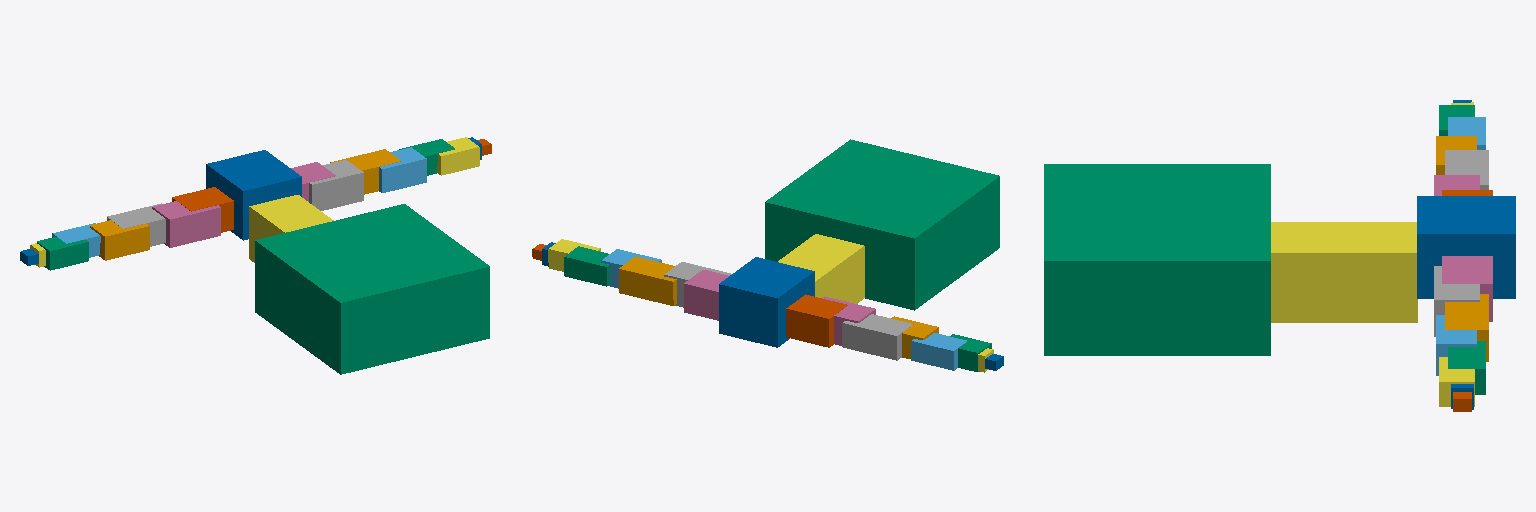
URDF robot description (Krang):
<?xml version="1.0" ?>
<!-- @file Krang.urdf -->
<!-- @author [author] -->
<!-- @date May 19, 2013 -->
<!-- @brief This file contains the .urdf definition for Krang with no dae files but only -->
<!-- bounding boxes for the dae files except the wheels (for fast loading in 05-fr). -->
<!-- TODO: Set the center of mass locations -->
<!-- TODO: Set the correct masses. Note that the dae models have the brackets divided in two and -->
<!-- connected to the middle motor for which we do not have measurements. -->
<!-- NOTE: The bounding box values are taken by finding the min and max values of the dae files. -->

<robot name="Krang">

	<!-- Links -->

	<link name = "LWheel"> 
    <inertial>
      <mass value="4.66"/>
      <inertia ixx="0.102019" ixy="2.45462e-05" ixz="0.00713022" iyy="0.0832724" iyz="-0.00131733" izz="0.086493"/>
      <origin xyz="0 0 0"/>
    </inertial>
		<visual> <geometry> <mesh filename="Base/oldwheel.dae" /> </geometry> </visual> 
		<collision> <geometry> <mesh filename="Base/oldwheel.dae" /> </geometry> </collision> 
	</link>

	<link name = "RWheel"> 
    <inertial>
      <mass value="4.66"/>
      <inertia ixx="0.102019" ixy="2.45462e-05" ixz="0.00713022" iyy="0.0832724" iyz="-0.00131733" izz="0.086493"/>
      <origin xyz="0 0 0"/>
    </inertial>
		<visual> <geometry> <mesh filename="Base/oldwheel.dae" /> </geometry> </visual> 
		<collision> <geometry> <mesh filename="Base/oldwheel.dae" /> </geometry> </collision> 
	</link>

	<link name = "Base"> 
    <inertial>
      <mass value="86.5"/>
      <inertia ixx="0.102019" ixy="2.45462e-05" ixz="0.00713022" iyy="0.0832724" iyz="-0.00131733" izz="0.086493"/>
      <origin xyz="0 0 0"/>
    </inertial>
		<visual> 
			<origin xyz="0.00225 0.2097395 0.006300"/>
      <geometry>
        <box size="0.7165 0.71048 0.32860"/>
      </geometry>
		</visual> 
		<collision> 
			<origin xyz="0.00225 0.2097395 0.006300"/>
      <geometry>
        <box size="0.7165 0.71048 0.32860"/>
      </geometry>
		</collision> 
	</link>

	<link name = "Spine"> 
    <inertial>
      <mass value="6.547"/>
      <inertia ixx="0.102019" ixy="2.45462e-05" ixz="0.00713022" iyy="0.0832724" iyz="-0.00131733" izz="0.086493"/>
      <origin xyz="0 0 0"/>
    </inertial>
		<visual> 
			<origin xyz="-0.026 0.230150 0.053887"/>
      <geometry>
        <box size="0.2340 0.59430 0.24097"/>
      </geometry>
		</visual> 
		<collision> 
			<origin xyz="-0.026 0.230150 0.053887"/>
      <geometry>
        <box size="0.2340 0.59430 0.24097"/>
      </geometry>
		</collision> 
	</link>

	<link name = "Bracket"> 
    <inertial>
      <mass value="3.11"/>
      <inertia ixx="0.102019" ixy="2.45462e-05" ixz="0.00713022" iyy="0.0832724" iyz="-0.00131733" izz="0.086493"/>
      <origin xyz="0 0 0"/>
    </inertial>
		<visual> <origin xyz="0.0012875 0.0971525 -0.0280530"/> <geometry> <box size="0.2815 0.30791 0.22611"/> </geometry> </visual> 
		<collision> <origin xyz="0.0012875 0.0971525 -0.0280530"/> <geometry> <box size="0.2815 0.30791 0.22611"/> </geometry> </collision> 
	</link>

	<link name = "L1"> 
    <inertial>
      <mass value="3.28"/>
      <inertia ixx="0.102019" ixy="2.45462e-05" ixz="0.00713022" iyy="0.0832724" iyz="-0.00131733" izz="0.086493"/>
      <origin xyz="0 0 0"/>
    </inertial>
		<visual> <origin xyz="0.015 -0.080866 0.0"/> <geometry> <box size="0.16 0.29367 0.13188"/> </geometry> </visual> 
		<collision> <origin xyz="0.015 -0.080866 0.0"/> <geometry> <box size="0.16 0.29367 0.13188"/> </geometry> </collision> 
	</link>

	<link name = "L2"> 
    <inertial>
      <mass value="3.76"/>
      <inertia ixx="0.102019" ixy="2.45462e-05" ixz="0.00713022" iyy="0.0832724" iyz="-0.00131733" izz="0.086493"/>
      <origin xyz="0 0 0"/>
    </inertial>
		<visual> <origin xyz="0.017042 -0.058309 0.0"/> <geometry> <box size="0.14591 0.24658 0.13"/> </geometry> </visual> 
		<collision> <origin xyz="0.017042 -0.058309 0.0"/> <geometry> <box size="0.14591 0.24658 0.13"/> </geometry> </collision> 
	</link>

	<link name = "L3"> 
    <inertial>
      <mass value="2.435"/>
      <inertia ixx="0.102019" ixy="2.45462e-05" ixz="0.00713022" iyy="0.0832724" iyz="-0.00131733" izz="0.086493"/>
      <origin xyz="0 0 0"/>
    </inertial>
		<visual> <origin xyz="0.014000 -0.075113 0.0"/> <geometry> <box size="0.13800 0.26217 0.11189"/> </geometry> </visual> 
		<collision> <origin xyz="0.014000 -0.075113 0.0"/> <geometry> <box size="0.13800 0.26217 0.11189"/> </geometry> </collision> 
	</link>

	<link name = "L4"> 
    <inertial>
      <mass value="2.356"/>
      <inertia ixx="0.102019" ixy="2.45462e-05" ixz="0.00713022" iyy="0.0832724" iyz="-0.00131733" izz="0.086493"/>
      <origin xyz="0 0 0"/>
    </inertial>
		<visual> <origin xyz="0.018200 -0.052050 0.0"/> <geometry> <box size="0.12960 0.2141 0.11"/> </geometry> </visual> 
		<collision> <origin xyz="0.018200 -0.052050 0.0"/> <geometry> <box size="0.12960 0.2141 0.11"/> </geometry> </collision> 
	</link>

	<link name = "L5"> 
    <inertial>
      <mass value="1.517"/>
      <inertia ixx="0.102019" ixy="2.45462e-05" ixz="0.00713022" iyy="0.0832724" iyz="-0.00131733" izz="0.086493"/>
      <origin xyz="0 0 0"/>
    </inertial>
		<visual> <origin xyz="0.0145115 -0.0571105 0.0000425"/> <geometry> <box size="0.117977 0.204179 0.089915"/> </geometry> </visual> 
		<collision> <origin xyz="0.0145115 -0.0571105 0.0000425"/> <geometry> <box size="0.117977 0.204179 0.089915"/> </geometry> </collision> 
	</link>

	<link name = "L6"> 
    <inertial>
      <mass value="1.428"/>
      <inertia ixx="0.102019" ixy="2.45462e-05" ixz="0.00713022" iyy="0.0832724" iyz="-0.00131733" izz="0.086493"/>
      <origin xyz="0 0 0"/>
    </inertial>
		<visual> <origin xyz="0.0175015 -0.0481615 0.0"/> <geometry> <box size="0.111977 0.185277 0.089"/> </geometry> </visual> 
		<collision> <origin xyz="0.0175015 -0.0481615 0.0"/> <geometry> <box size="0.111977 0.185277 0.089"/> </geometry> </collision> 
	</link>

	<link name = "LFT"> 
    <inertial>
      <mass value="1.206"/>
      <inertia ixx="0.102019" ixy="2.45462e-05" ixz="0.00713022" iyy="0.0832724" iyz="-0.00131733" izz="0.086493"/>
      <origin xyz="0 0 0"/>
    </inertial>
		<visual> <origin xyz="0.0 0.0111 0.0"/> <geometry> <box size="0.075 0.0462 0.075"/> </geometry> </visual> 
		<collision> <origin xyz="0.0 0.0111 0.0"/> <geometry> <box size="0.075 0.0462 0.075"/> </geometry> </collision> 
	</link>

	<link name = "lGripper">
		<visual> <origin xyz="0.0 0.0 0.0"/> <geometry> <box size="0.0616 0.0555 0.044"/> </geometry> </visual> 
		<collision> <origin xyz="0.0 0.0 0.0"/> <geometry> <box size="0.0616 0.0555 0.044"/> </geometry> </collision> 
	</link> 	

	<link name = "lgPlate1">
		<visual> <geometry> <mesh filename="Schunk/gripperPlate.dae" /> </geometry> </visual>
		<collision> <geometry> <mesh filename="Schunk/gripperPlate.dae" /> </geometry> </collision>
	</link> 	

	<link name = "R1"> 
    <inertial>
      <mass value="3.28"/>
      <inertia ixx="0.102019" ixy="2.45462e-05" ixz="0.00713022" iyy="0.0832724" iyz="-0.00131733" izz="0.086493"/>
      <origin xyz="0 0 0"/>
    </inertial>
		<visual> <origin xyz="0.015 -0.080866 0.0"/> <geometry> <box size="0.16 0.29367 0.13188"/> </geometry> </visual> 
		<collision> <origin xyz="0.015 -0.080866 0.0"/> <geometry> <box size="0.16 0.29367 0.13188"/> </geometry> </collision> 
	</link>

	<link name = "R2"> 
    <inertial>
      <mass value="3.76"/>
      <inertia ixx="0.102019" ixy="2.45462e-05" ixz="0.00713022" iyy="0.0832724" iyz="-0.00131733" izz="0.086493"/>
      <origin xyz="0 0 0"/>
    </inertial>
		<visual> <origin xyz="0.017042 -0.058309 0.0"/> <geometry> <box size="0.14591 0.24658 0.13"/> </geometry> </visual> 
		<collision> <origin xyz="0.017042 -0.058309 0.0"/> <geometry> <box size="0.14591 0.24658 0.13"/> </geometry> </collision> 
	</link>

	<link name = "R3"> 
    <inertial>
      <mass value="2.435"/>
      <inertia ixx="0.102019" ixy="2.45462e-05" ixz="0.00713022" iyy="0.0832724" iyz="-0.00131733" izz="0.086493"/>
      <origin xyz="0 0 0"/>
    </inertial>
		<visual> <origin xyz="0.014000 -0.075113 0.0"/> <geometry> <box size="0.13800 0.26217 0.11189"/> </geometry> </visual> 
		<collision> <origin xyz="0.014000 -0.075113 0.0"/> <geometry> <box size="0.13800 0.26217 0.11189"/> </geometry> </collision> 
	</link>

	<link name = "R4"> 
    <inertial>
      <mass value="2.356"/>
      <inertia ixx="0.102019" ixy="2.45462e-05" ixz="0.00713022" iyy="0.0832724" iyz="-0.00131733" izz="0.086493"/>
      <origin xyz="0 0 0"/>
    </inertial>
		<visual> <origin xyz="0.018200 -0.052050 0.0"/> <geometry> <box size="0.12960 0.2141 0.11"/> </geometry> </visual> 
		<collision> <origin xyz="0.018200 -0.052050 0.0"/> <geometry> <box size="0.12960 0.2141 0.11"/> </geometry> </collision> 
	</link>

	<link name = "R5"> 
    <inertial>
      <mass value="1.517"/>
      <inertia ixx="0.102019" ixy="2.45462e-05" ixz="0.00713022" iyy="0.0832724" iyz="-0.00131733" izz="0.086493"/>
      <origin xyz="0 0 0"/>
    </inertial>
		<visual> <origin xyz="0.0145115 -0.0571105 0.0000425"/> <geometry> <box size="0.117977 0.204179 0.089915"/> </geometry> </visual> 
		<collision> <origin xyz="0.0145115 -0.0571105 0.0000425"/> <geometry> <box size="0.117977 0.204179 0.089915"/> </geometry> </collision> 
	</link>

	<link name = "R6"> 
    <inertial>
      <mass value="1.428"/>
      <inertia ixx="0.102019" ixy="2.45462e-05" ixz="0.00713022" iyy="0.0832724" iyz="-0.00131733" izz="0.086493"/>
      <origin xyz="0 0 0"/>
    </inertial>
		<visual> <origin xyz="0.0175015 -0.0481615 0.0"/> <geometry> <box size="0.111977 0.185277 0.089"/> </geometry> </visual> 
		<collision> <origin xyz="0.0175015 -0.0481615 0.0"/> <geometry> <box size="0.111977 0.185277 0.089"/> </geometry> </collision> 
	</link>

	<link name = "RFT"> 
    <inertial>
      <mass value="1.206"/>
      <inertia ixx="0.102019" ixy="2.45462e-05" ixz="0.00713022" iyy="0.0832724" iyz="-0.00131733" izz="0.086493"/>
      <origin xyz="0 0 0"/>
    </inertial>
		<visual> <origin xyz="0.0 0.0111 0.0"/> <geometry> <box size="0.075 0.0462 0.075"/> </geometry> </visual> 
		<collision> <origin xyz="0.0 0.0111 0.0"/> <geometry> <box size="0.075 0.0462 0.075"/> </geometry> </collision> 
	</link>

	<link name = "rGripper">
		<visual> <origin xyz="0.0 0.0 0.0"/> <geometry> <box size="0.0616 0.0555 0.044"/> </geometry> </visual> 
		<collision> <origin xyz="0.0 0.0 0.0"/> <geometry> <box size="0.0616 0.0555 0.044"/> </geometry> </collision> 
	</link> 	


	<link name = "rgPlate1">
		<visual> <geometry> <mesh filename="Schunk/gripperPlate.dae" /> </geometry> </visual>
		<collision> <geometry> <mesh filename="Schunk/gripperPlate.dae" /> </geometry> </collision>
	</link> 	

	<!-- ======================================================================================================== -->
	<!-- ============================================ Joints ==================================================== -->
	<!-- ======================================================================================================== -->

	<joint name="JLWheel" type="revolute"> <parent link="Base" /> <child link="LWheel" />
		<origin xyz = "-0.354 0.0 0" rpy="0 0 0" />
		<axis xyz="1 0 0" /> <limit effort="1000" lower="-3.1416" upper="3.1416" velocity="0.1" />
	</joint>

	<joint name="JRWheel" type="revolute"> <parent link="Base" /> <child link="RWheel" />
		<origin xyz = "0.361 0.0 0" rpy="0 0 0" />
		<axis xyz="1 0 0" /> <limit effort="1000" lower="-3.1416" upper="3.1416" velocity="0.1" />
	</joint>

	<joint name="JWaist" type="revolute"> <parent link="Base" /> <child link="Spine" />
		<origin xyz = "0.026 0.499 -0.091" rpy="0 0 0" />
		<axis xyz="-1 0 0" /> <limit effort="1000" lower="0" upper="2.3" velocity="0.1" />
	</joint>

	<joint name="JTorso" type="revolute"> <parent link="Spine" /> <child link="Bracket" />
		<origin xyz = "-0.0285 0.584 0.1088" rpy="0 3.1416 0" />
		<axis xyz="0 -1 0" /> <limit effort="1000" lower="-0.8" upper="0.8" velocity="0.1" />
	</joint>

	<joint name="LJ1" type="revolute"> <parent link="Bracket" /> <child link="L1" />
		<origin xyz = "0.2823 0.0845 0" rpy="0 3.1416 -1.5708" />
		<axis xyz="0 -1 0" /> <limit effort="1000" lower="-3.1416" upper="3.1416" velocity="0.1" />
	</joint>

	<joint name="LJ2" type="revolute"> <parent link="L1" /> <child link="L2" />
		<origin xyz="0 0.0 0" rpy="3.14 3.14 0" />
		<axis xyz="-1 0 0" /> <limit effort="1000" lower="-2.094" upper="2.094" velocity="0.1" />
	</joint>

	<joint name="LJ3" type="revolute"> <parent link="L2" /> <child link="L3" />
		<origin xyz="0 -0.328 0" rpy="-3.1416 -3.1416 0" />
		<axis xyz="0 -1 0" /> <limit effort="1000" lower="-3.1416" upper="3.1416" velocity="0.1" />
	</joint>

	<joint name="LJ4" type="revolute"> <parent link="L3" /> <child link="L4" />
		<origin xyz="0 0 0" rpy="3.1416 3.1416 0" />
		<axis xyz="-1 0 0" /> <limit effort="1000" lower="-2.094" upper="2.094" velocity="0.1" />
	</joint>

	<joint name="LJ5" type="revolute"> <parent link="L4" /> <child link="L5" />
		<origin xyz="0 -0.2765 0" rpy="3.1416 3.1416 0" />
		<axis xyz="0 -1 0" /> <limit effort="1000" lower="-3.1416" upper="3.1416" velocity="0.1" />
	</joint>

	<joint name="LJ6" type="revolute"> <parent link="L5" /> <child link="L6" />
		<origin xyz="0 0 0" rpy="3.1416 3.1416 0" />
		<axis xyz="-1 0 0" /> <limit effort="1000" lower="-2.094" upper="2.094" velocity="0.1" />
	</joint>

	<!-- For some reason, I had to negate the axis to make sure the motor turns like the others -->
	<joint name="LJFT" type="revolute"> <parent link="L6" /> <child link="LFT" />
		<origin xyz="0 -0.159 0" rpy="0 0 0" />
		<axis xyz="0 1 0" /> <limit effort="1000" lower="-3.1416" upper="3.1416" velocity="0.1" />
	</joint>

	<joint name="LMotorGripper" type="fixed"> <parent link="LFT" /> <child link="lGripper" />
		<origin xyz="0.0 -0.035 0" rpy="3.1416 0 0" />
		<axis xyz="1 0 0" /> <limit effort="1000" lower="-2.094" upper="2.094" velocity="0.1" />
	</joint>

	<joint name="LMotorPlate1" type="revolute"> <parent link="lGripper" /> <child link="lgPlate1" />
		<origin xyz="-0.025 0.068 0.0" rpy="1.57 0.0 0" />
		<axis xyz="0 -1 0" /> <limit effort="1000" lower="0.0" upper="1.57" velocity="0.1" />
	</joint>

	<!-- Right arm -->

	<joint name="RJ1" type="revolute"> <parent link="Bracket" /> <child link="R1" />
		<origin xyz = "-0.2823 0.0845 0" rpy="0 0 1.5708" />
		<axis xyz="0 -1 0" /> <limit effort="1000" lower="-3.1416" upper="3.1416" velocity="0.1" />
	</joint>

	<joint name="RJ2" type="revolute"> <parent link="R1" /> <child link="R2" />
		<origin xyz="0 0.0 0" rpy="3.14 3.14 0" />
		<axis xyz="-1 0 0" /> <limit effort="1000" lower="-2.094" upper="2.094" velocity="0.1" />
	</joint>

	<joint name="RJ3" type="revolute"> <parent link="R2" /> <child link="R3" />
		<origin xyz="0 -0.328 0" rpy="-3.1416 -3.1416 0" />
		<axis xyz="0 -1 0" /> <limit effort="1000" lower="-3.1416" upper="3.1416" velocity="0.1" />
	</joint>

	<joint name="RJ4" type="revolute"> <parent link="R3" /> <child link="R4" />
		<origin xyz="0 0 0" rpy="3.1416 3.1416 0" />
		<axis xyz="-1 0 0" /> <limit effort="1000" lower="-2.094" upper="2.094" velocity="0.1" />
	</joint>

	<joint name="RJ5" type="revolute"> <parent link="R4" /> <child link="R5" />
		<origin xyz="0 -0.2765 0" rpy="3.1416 3.1416 0" />
		<axis xyz="0 -1 0" /> <limit effort="1000" lower="-3.1416" upper="3.1416" velocity="0.1" />
	</joint>

	<joint name="RJ6" type="revolute"> <parent link="R5" /> <child link="R6" />
		<origin xyz="0 0 0" rpy="3.1416 3.1416 0" />
		<axis xyz="-1 0 0" /> <limit effort="1000" lower="-2.094" upper="2.094" velocity="0.1" />
	</joint>

	<joint name="RJFT" type="revolute"> <parent link="R6" /> <child link="RFT" />
		<origin xyz="0 -0.159 0" rpy="0 0 0" />
		<axis xyz="0 1 0" /> <limit effort="1000" lower="-3.1416" upper="3.1416" velocity="0.1" />
	</joint>

	<joint name="RMotorGripper" type="fixed"> <parent link="RFT" /> <child link="rGripper" />
		<origin xyz="0 -0.035 0" rpy="3.1416 0 0" />
		<axis xyz="1 0 0" /> <limit effort="1000" lower="-2.094" upper="2.094" velocity="0.1" />
	</joint>

	<joint name="RMotorPlate1" type="revolute"> <parent link="rGripper" /> <child link="rgPlate1" />
		<origin xyz="-0.025 0.068 0.0" rpy="1.57 0.0 0" />
		<axis xyz="0 -1 0" /> <limit effort="1000" lower="0.0" upper="1.57" velocity="0.1" />
	</joint>

</robot>

--- What the picture shows (computed from the rendered views, not written in the file) ---
Views: 3 orthographic renders of the robot side by side, from view 1: azimuth 30°, elevation 25°; view 2: azimuth 150°, elevation 25°; view 3: azimuth 270°, elevation 25°.
Robot: Krang — 23 links, 22 joints (20 revolute, 2 fixed); root link Base; default pose: every joint at zero.
Visible links, largest first — view 1: Base, Bracket, Spine, L2, R2, L4, R4, L1, L6, R6, L3, R3 (+3 smaller); view 2: Base, Bracket, Spine, L1, L3, R3, R1, L5, R5, L2, L6, R2 (+3 smaller); view 3: Base, Spine, Bracket, R1, R3, L3, R5, R2, R4, R6, L5, L4 (+2 smaller).
Boxes of the visible links, <box> form: Base: <box>255,204,489,374</box>; Bracket: <box>206,150,301,240</box>; Spine: <box>249,195,333,262</box>; L2: <box>152,201,220,247</box>; R2: <box>309,160,363,210</box>; L4: <box>90,220,149,260</box>; R4: <box>379,147,426,192</box>; L1: <box>172,187,233,232</box>; L6: <box>37,237,88,270</box>; R6: <box>437,137,479,175</box>; L3: <box>107,203,165,246</box>; R3: <box>330,149,400,194</box>; Base: <box>765,139,999,310</box>; Bracket: <box>719,257,814,347</box>; Spine: <box>778,234,864,303</box>; L1: <box>786,294,847,347</box>; L3: <box>842,314,913,360</box>; R3: <box>619,256,676,305</box>; R1: <box>684,270,728,320</box>; L5: <box>911,333,966,370</box>; R5: <box>564,246,609,286</box>; L2: <box>822,296,875,345</box>; L6: <box>950,334,991,371</box>; R2: <box>664,262,731,307</box>; Base: <box>1044,164,1270,355</box>; Spine: <box>1271,222,1417,322</box>; Bracket: <box>1417,196,1515,298</box>; R1: <box>1442,256,1492,321</box>; R3: <box>1445,294,1488,361</box>; L3: <box>1445,150,1488,189</box>; R5: <box>1448,341,1485,394</box>; R2: <box>1434,266,1479,336</box>; R4: <box>1436,315,1476,375</box>; R6: <box>1439,357,1474,406</box>; L5: <box>1448,117,1485,149</box>; L4: <box>1436,136,1476,174</box>.
Size in the robot's own frame: 2.22 by 1.48 by 0.3286 metres.
0 mesh visuals loaded from 2 distinct referenced files (none loaded); not drawn: 4 (reference not matched to a file when rendering).